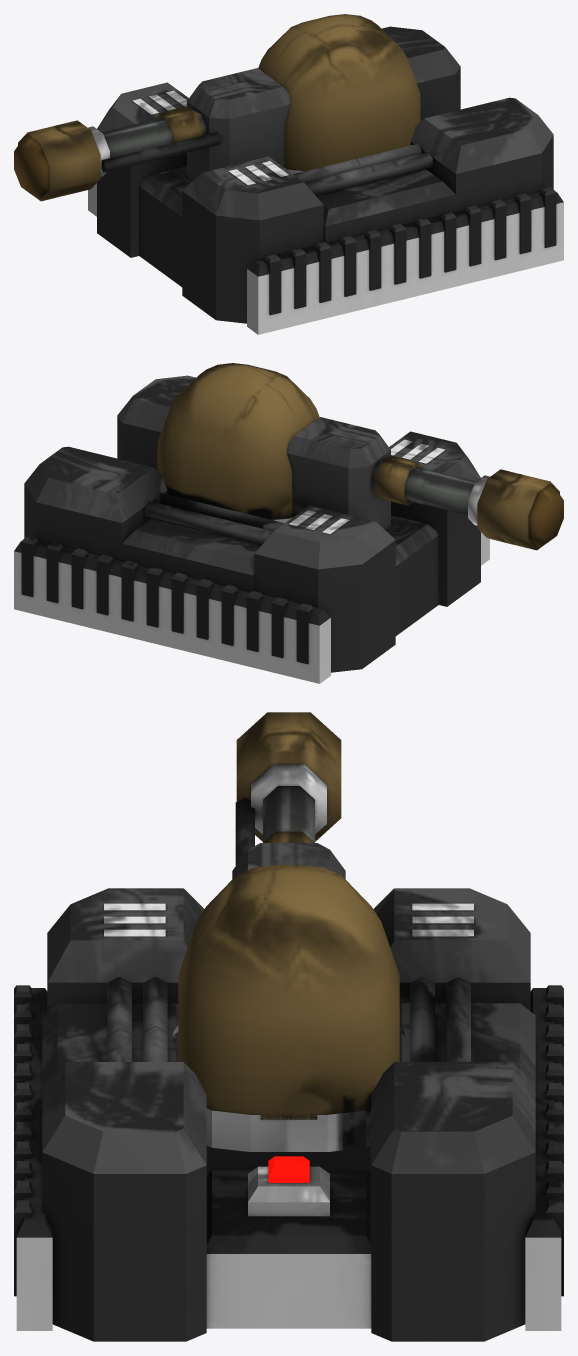
The model's file is newshp-13-f4.glb.
3 views of the same model, one above another, from view 1: azimuth 30°, elevation 25°; view 2: azimuth 150°, elevation 25°; view 3: azimuth 270°, elevation 25° (orthographic). The views are drawn at different scales.
Visible parts, largest first — view 1: newshp-13-f4; view 2: newshp-13-f4; view 3: newshp-13-f4.
Part boxes in pixels (x1,y1,x2,y2): newshp-13-f4: [14, 14, 563, 334]; newshp-13-f4: [14, 363, 563, 683]; newshp-13-f4: [14, 712, 563, 1341].
Bounding box in the file's own units: 1.4 × 0.6167 × 0.8917.
14 materials, 14 textured.
